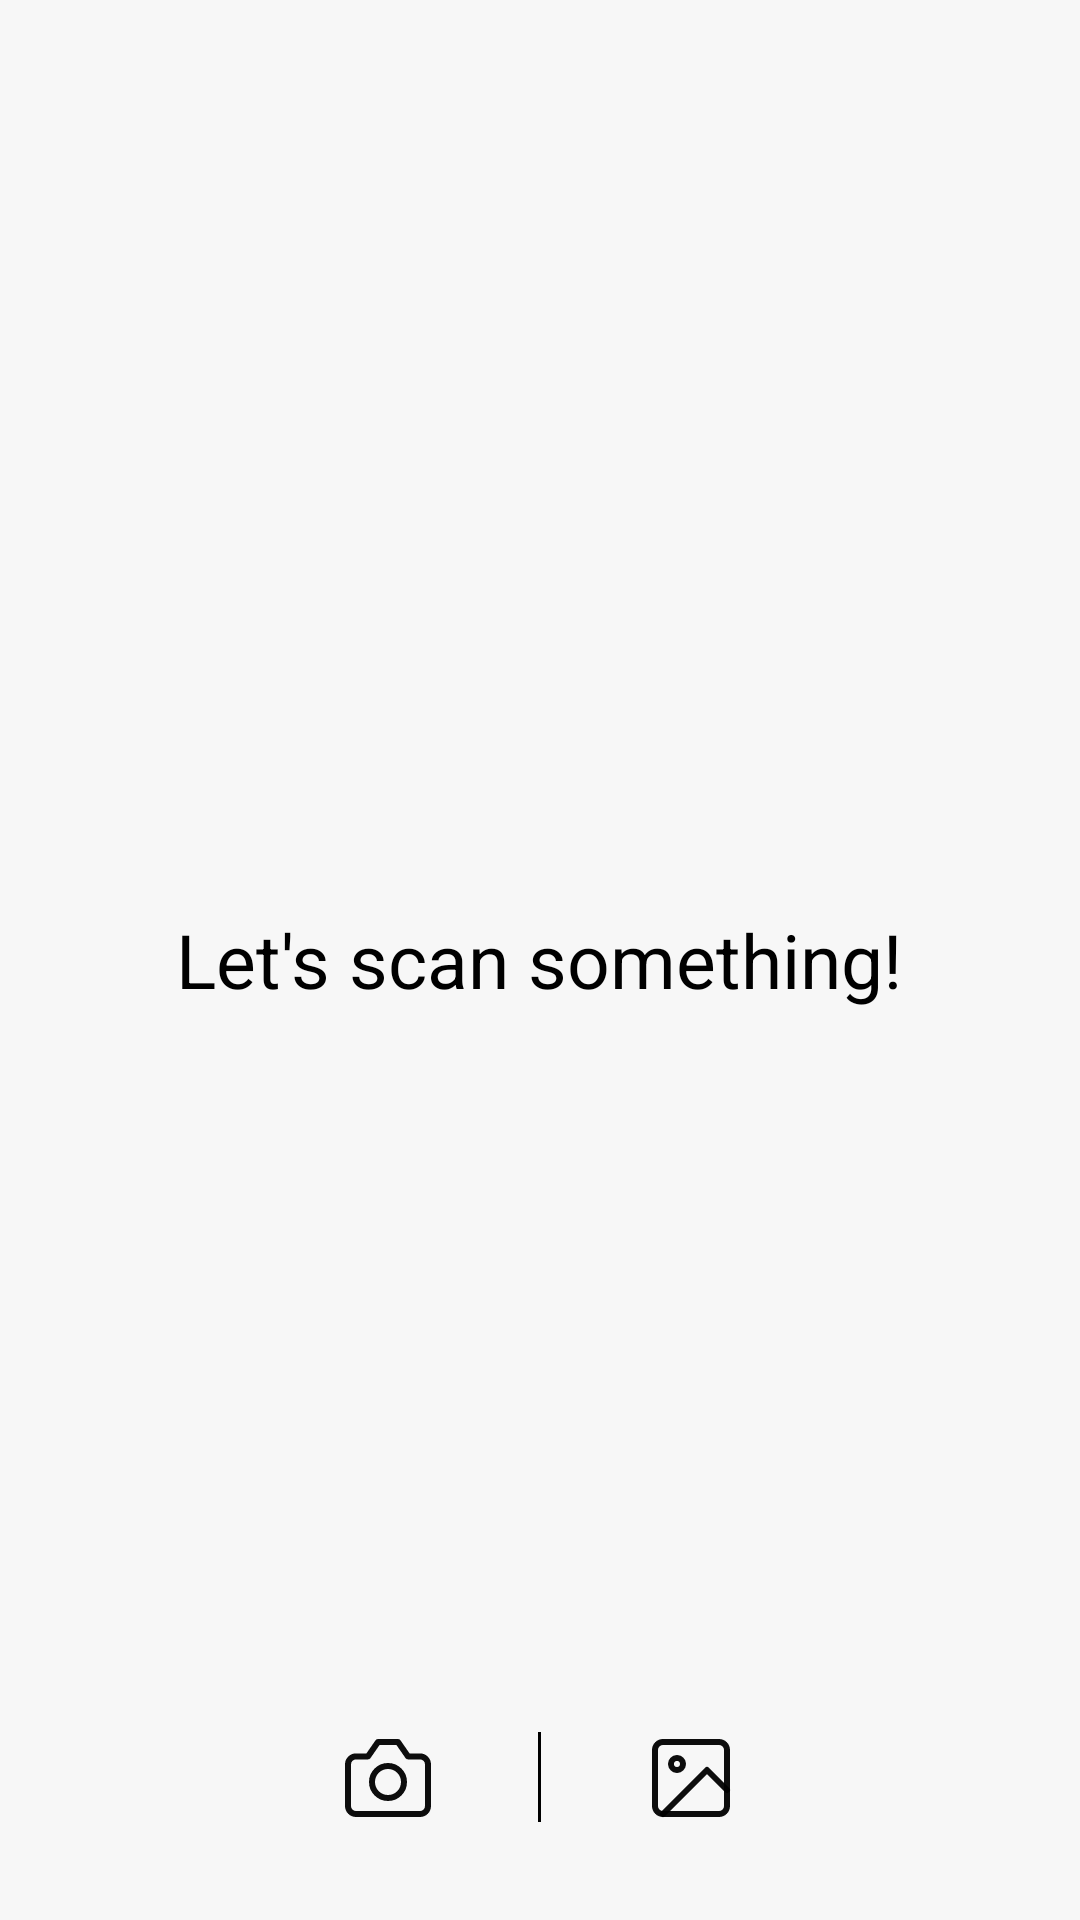

Locate icon controls on the screen. Image size 1080 × 1920, boxes as (x1=x1, y1=y1, x2=x2, y2=y2).
camera: (x1=345, y1=1739, x2=431, y2=1817)
photo: (x1=652, y1=1739, x2=730, y2=1817)
